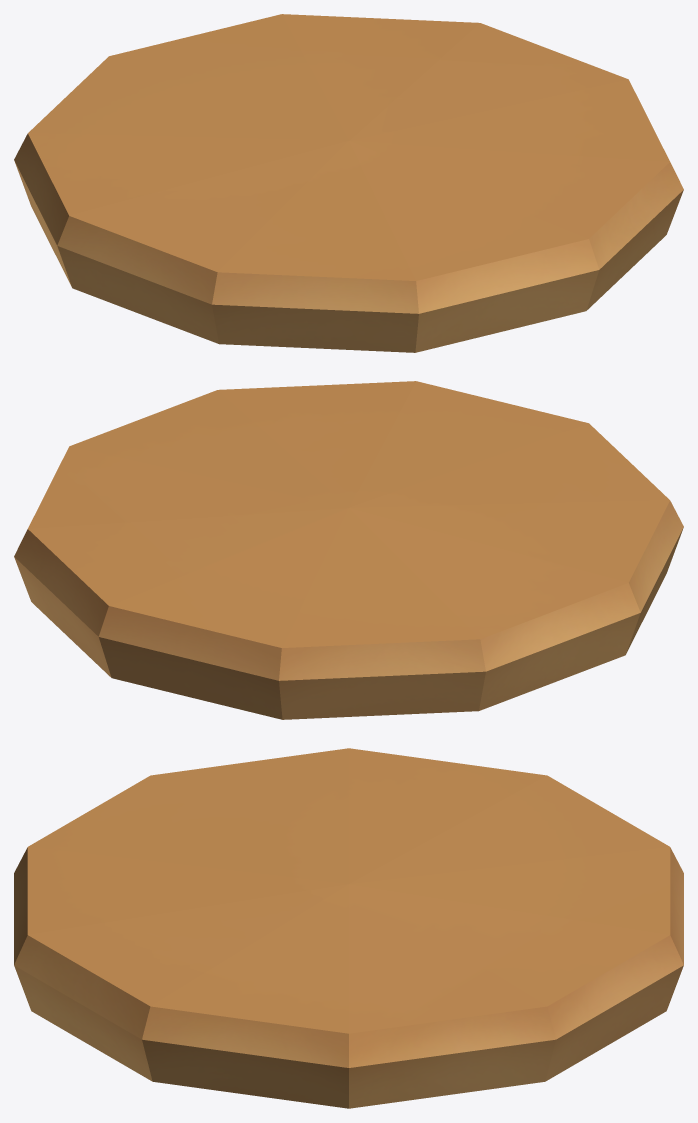
Rendered from other_bun_down.FBX.
3 renders of one model, top to bottom at view 1: azimuth 30°, elevation 25°; view 2: azimuth 150°, elevation 25°; view 3: azimuth 270°, elevation 25°, orthographic. The views are drawn at different scales.
Visible parts, largest first — view 1: other_bun_down; view 2: other_bun_down; view 3: other_bun_down.
Part boxes in pixels (left/top/right/bottom): other_bun_down: left=14, top=14, right=683, bottom=352; other_bun_down: left=14, top=381, right=683, bottom=719; other_bun_down: left=14, top=748, right=683, bottom=1108.
Bounding box in the file's own units: 197 × 34.87 × 187.
